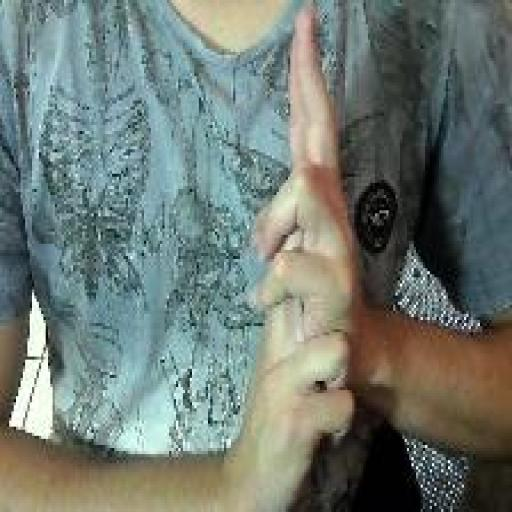Hitsuji -ram-: (240, 6, 361, 509)
